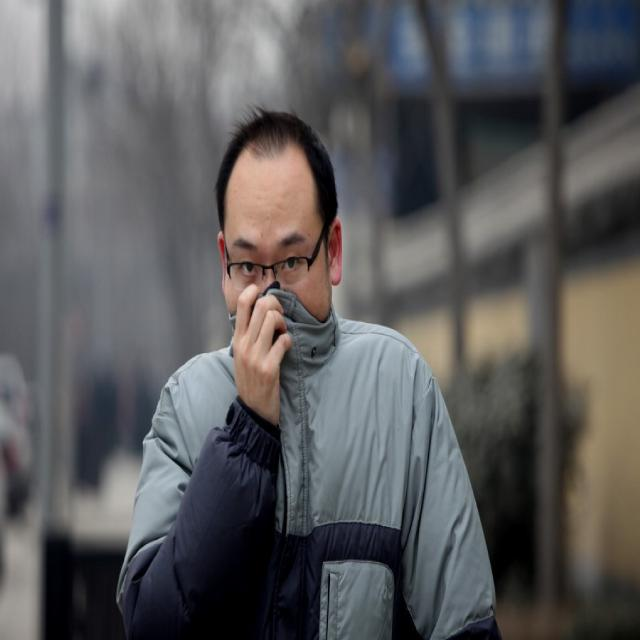nomask: (221, 162, 331, 364)
